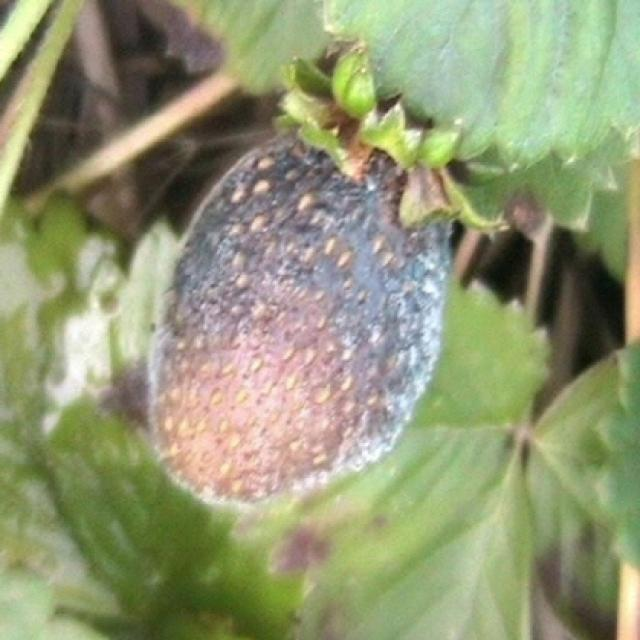Gray Mold: (146, 123, 456, 506)
